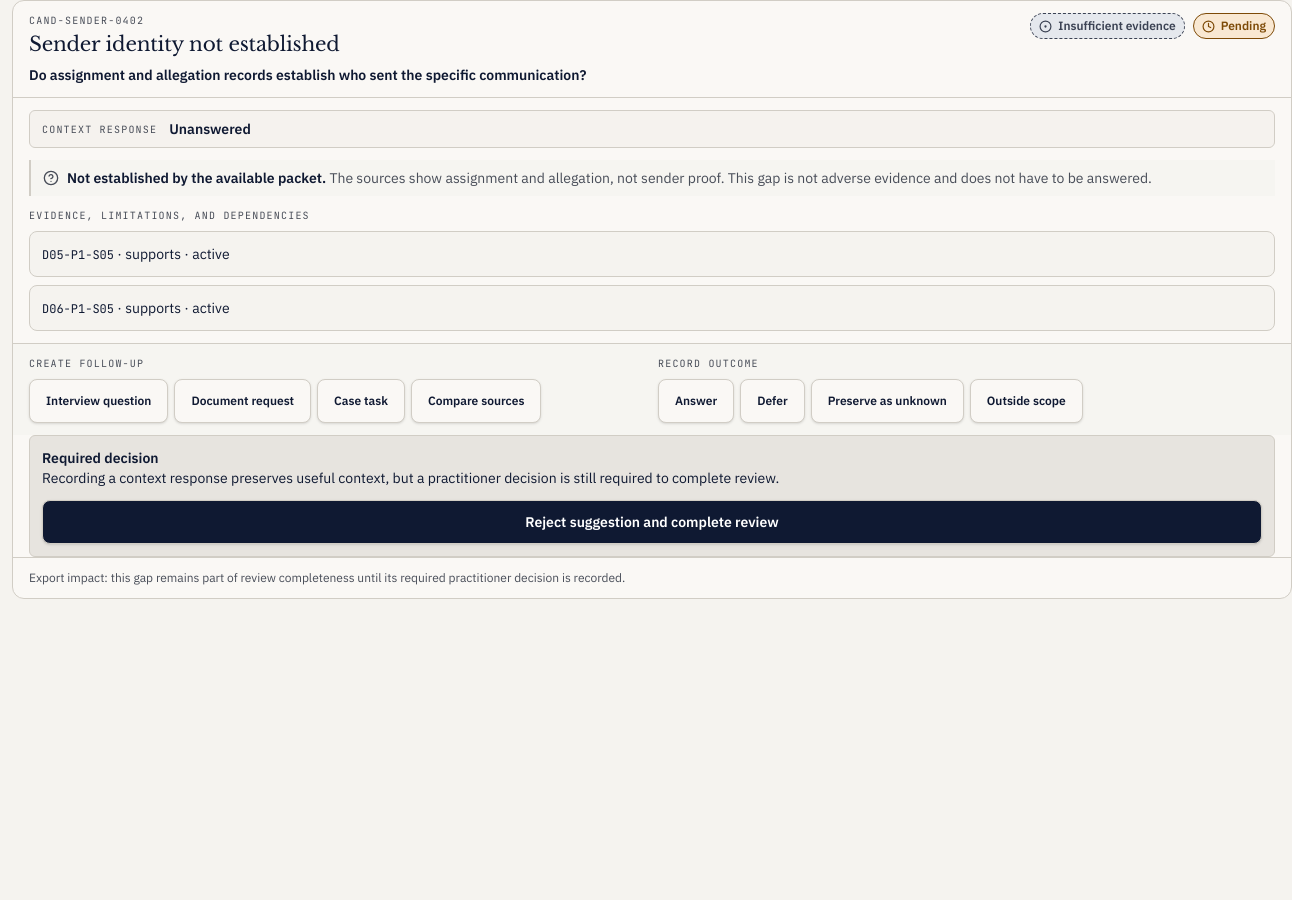
TASK-021 context gaps › creates a gap interview question with safe wording and a navigable success link
The image size is (1292, 900).
Click the button with aria-label "Create interview question": [99, 401] box [29, 379, 168, 423]
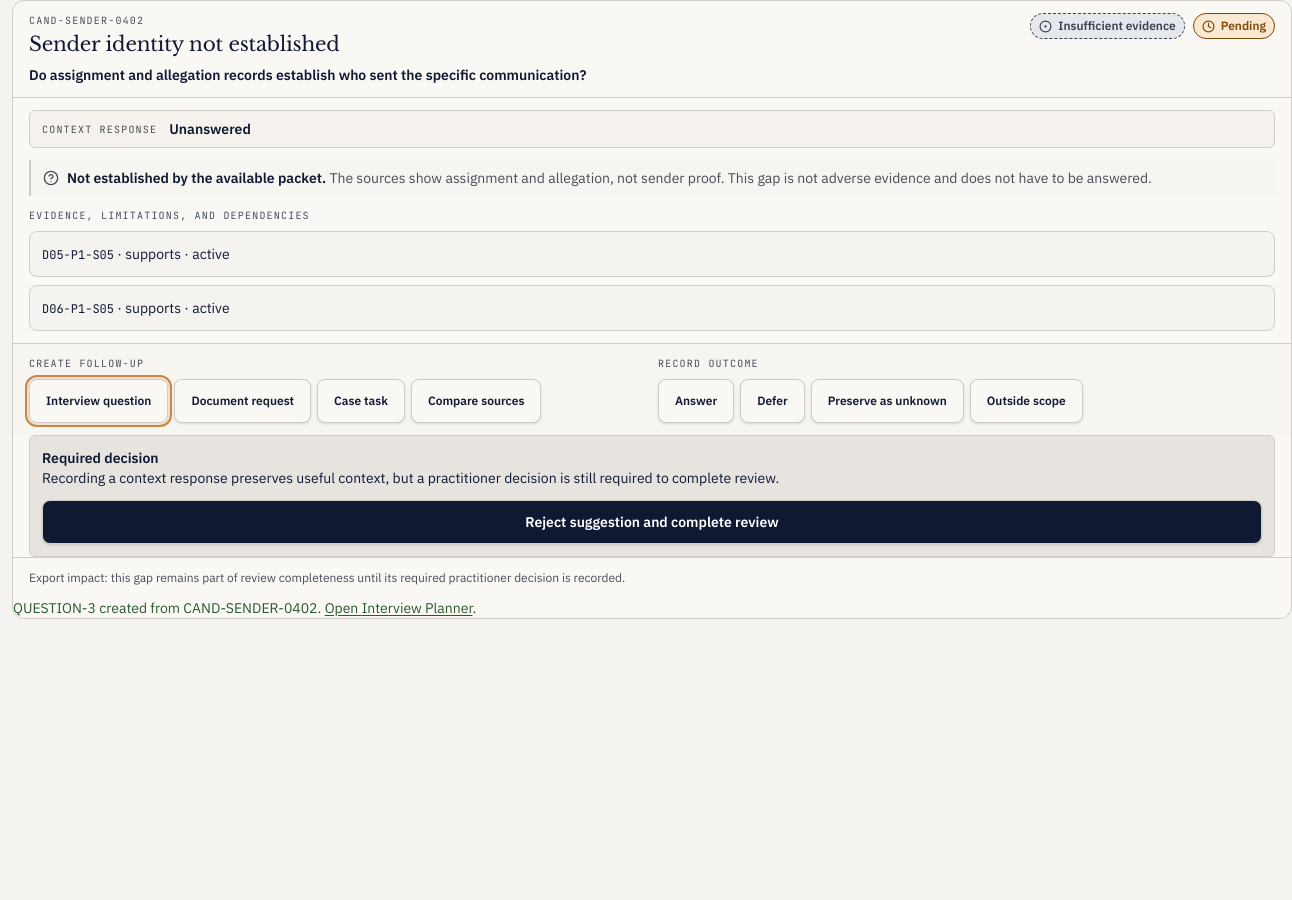
Expected: the text "QUESTION-3 created from CAND-SENDER-0402. Open Interview Planner ." is shown, [13, 599, 476, 617]
